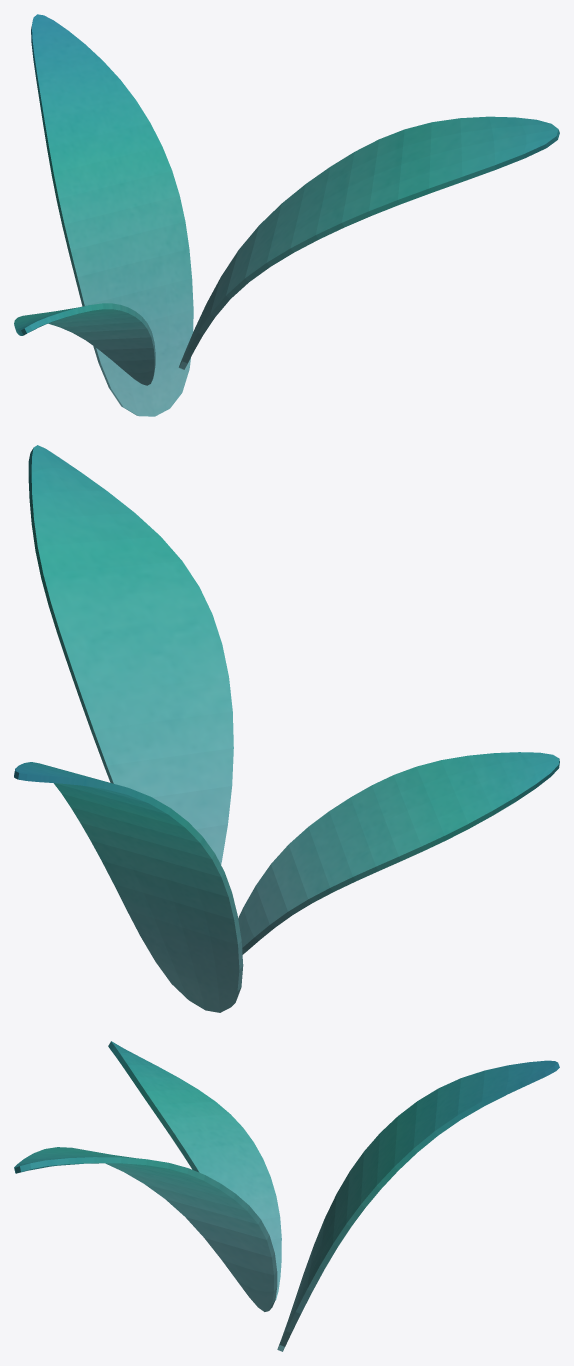
File: grass_3.obj
3 renders of one model, top to bottom at view 1: azimuth 30°, elevation 25°; view 2: azimuth 150°, elevation 25°; view 3: azimuth 270°, elevation 25°, orthographic. The views are drawn at different scales.
Parts seen in each view (by area): view 1: grass_3; view 2: grass_3; view 3: grass_3.
Boxes of the visible parts, <box> form: grass_3: <box>14,14,559,416</box>; grass_3: <box>14,445,559,1012</box>; grass_3: <box>14,1041,559,1351</box>.
Size of the model in its own units: 0.6522 by 0.4036 by 0.6254.
